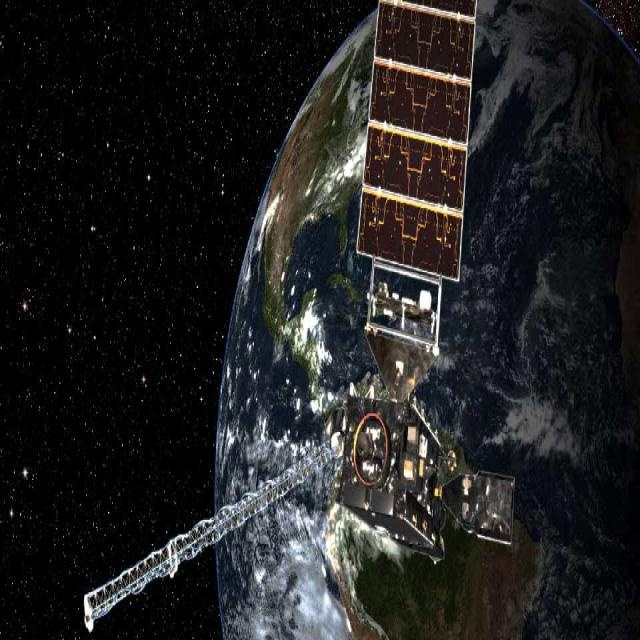satellite: (65, 0, 537, 640)
